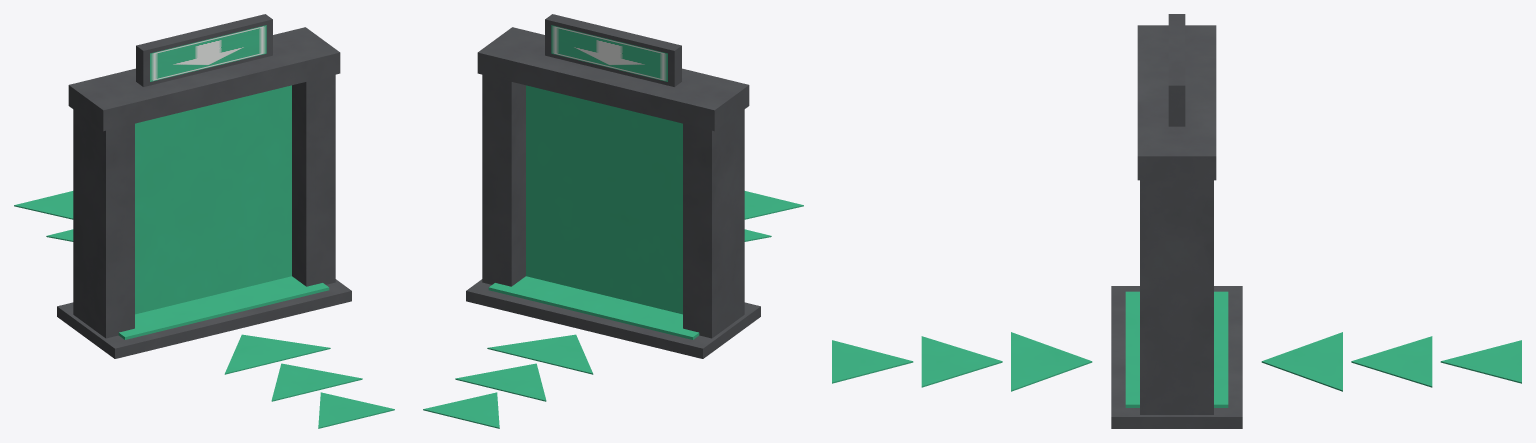
File: goal.gltf
3 views of the same model, side by side, from view 1: azimuth 30°, elevation 25°; view 2: azimuth 150°, elevation 25°; view 3: azimuth 270°, elevation 25° (orthographic). The views are drawn at different scales.
Parts seen in each view (by area): view 1: jx_goal; view 2: jx_goal; view 3: jx_goal.
Boxes of the visible parts, left/top/right/bottom form: jx_goal: left=14, top=14, right=394, bottom=428; jx_goal: left=423, top=14, right=803, bottom=428; jx_goal: left=832, top=14, right=1521, bottom=428.
Size of the model in its own units: 2.6 by 2.9 by 5.78.
Materials: 3 (3 with a texture image).
